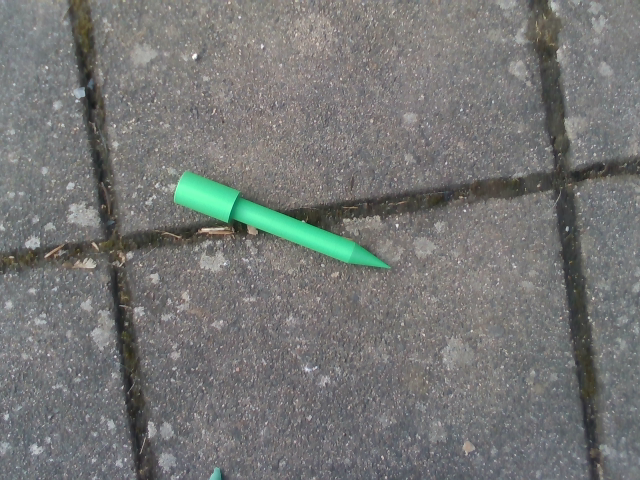Probe: (169, 165, 396, 275)
